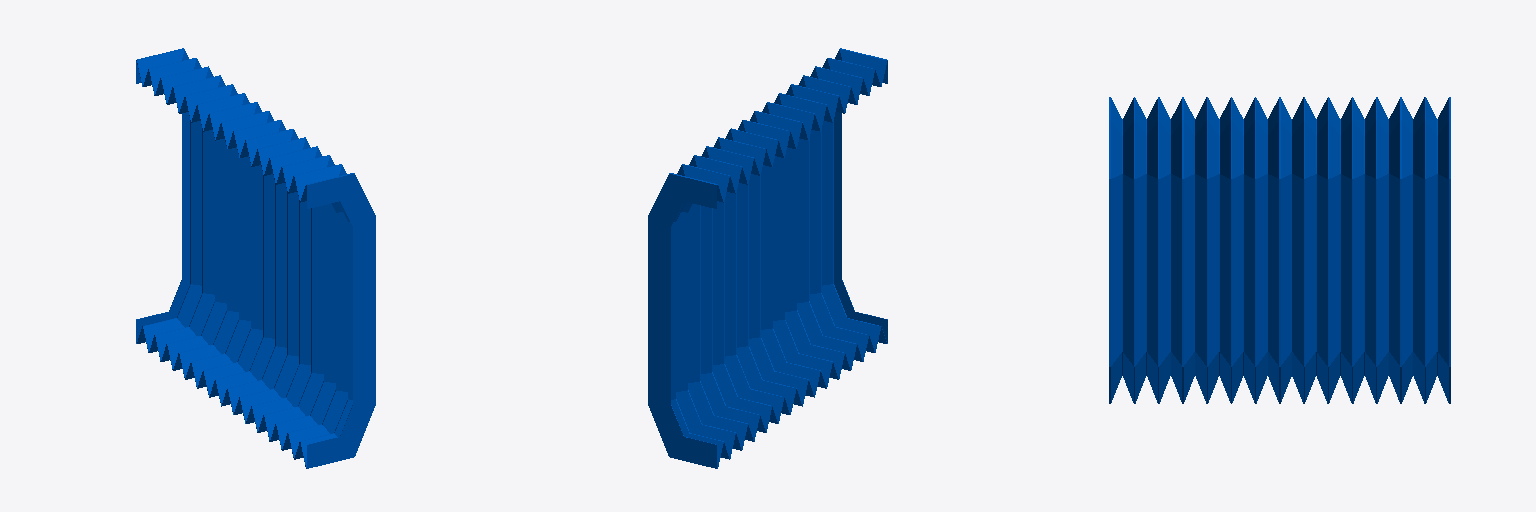
Rendered from bellows_link.obj.
The picture shows the model from 3 angles: view 1: azimuth 30°, elevation 25°; view 2: azimuth 150°, elevation 25°; view 3: azimuth 270°, elevation 25°; orthographic projection.
Size of the model in its own units: 0.0764 by 0.2988 by 0.3268.